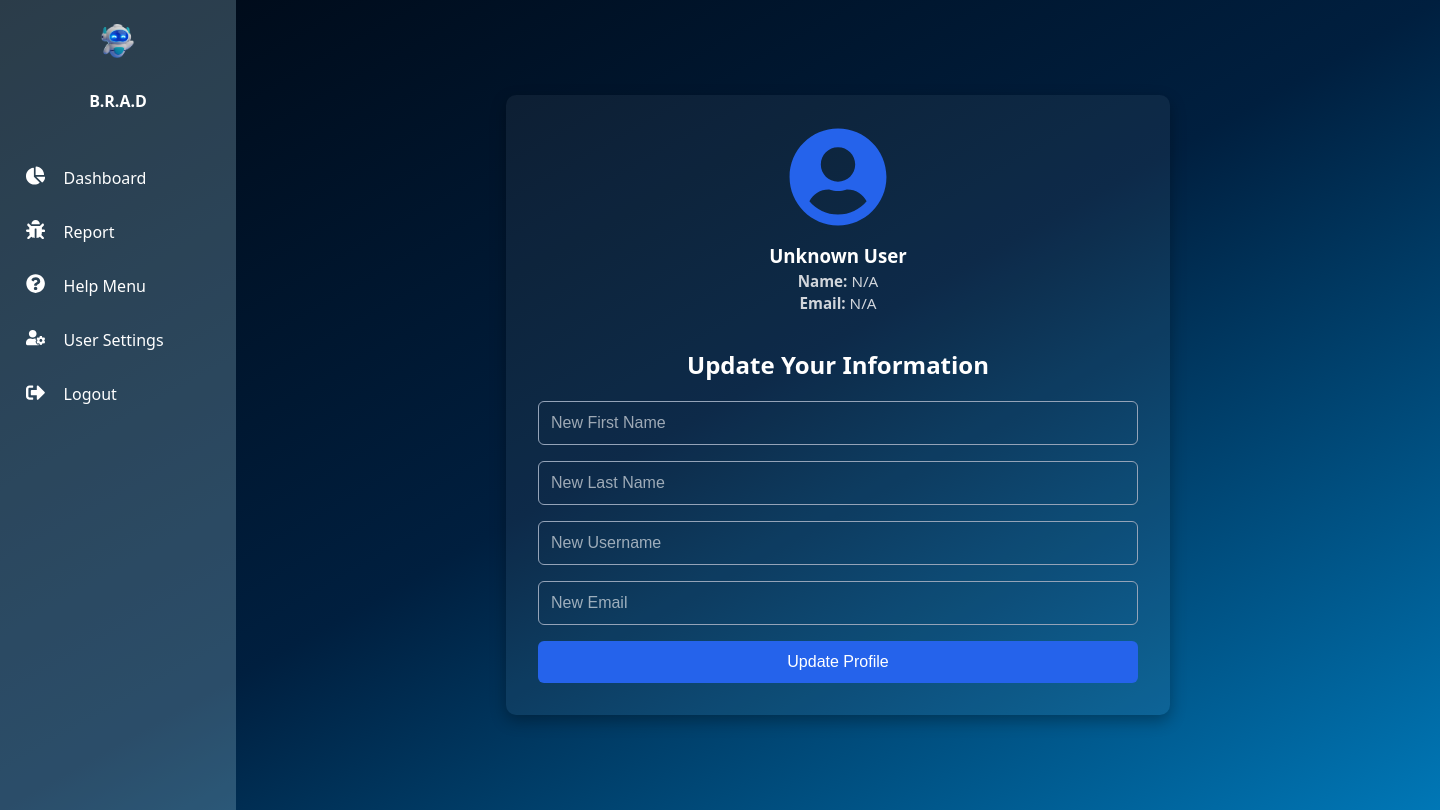
Test: UserSettings › shows error message if no fields are filled
Click the button "Update Profile".
click(838, 662)  # box [538,640,1138,682]
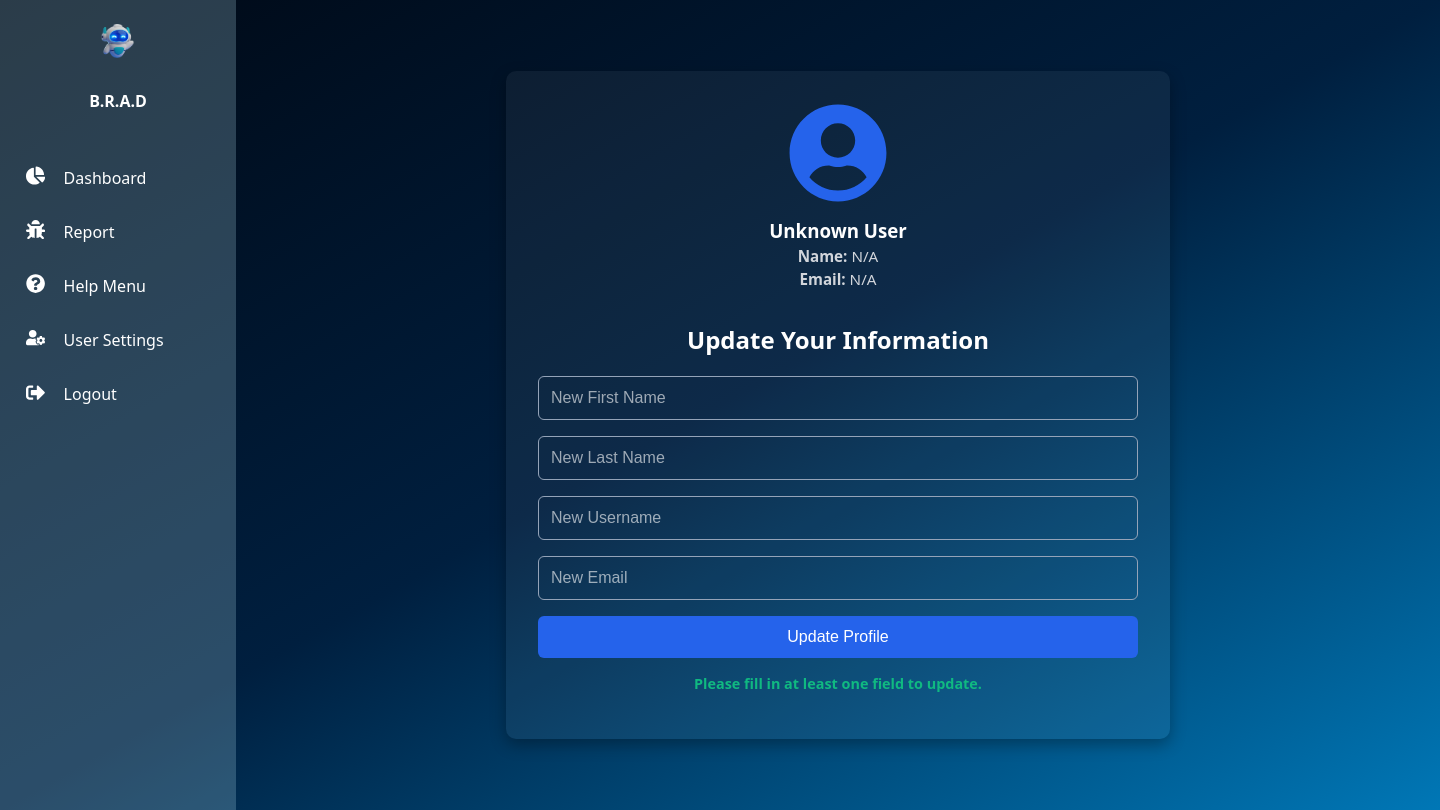
Expected: the text "Please fill in at least one field to update." is shown, [694,674,982,693]
